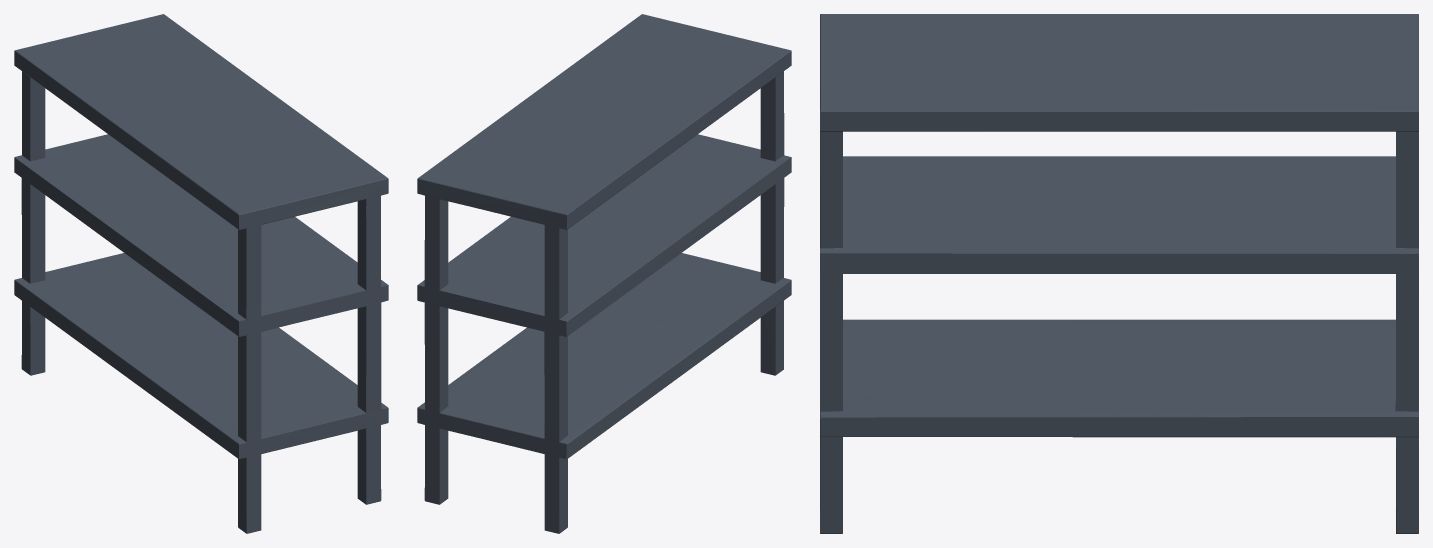
File: metallregal.obj
The picture shows the model from 3 angles, left to right: view 1: azimuth 30°, elevation 25°; view 2: azimuth 150°, elevation 25°; view 3: azimuth 270°, elevation 25°; orthographic projection. The views are drawn at different scales.
Parts seen in each view (by area): view 1: 280310_23_05_23_08_02_34_0; view 2: 280310_23_05_23_08_02_34_0; view 3: 280310_23_05_23_08_02_34_0.
Boxes of the visible parts, <box> form: 280310_23_05_23_08_02_34_0: <box>14,14,388,533</box>; 280310_23_05_23_08_02_34_0: <box>417,14,791,533</box>; 280310_23_05_23_08_02_34_0: <box>820,14,1418,533</box>.
Size of the model in its own units: 4 by 8.2 by 10.4.
1 material, 1 textured.
